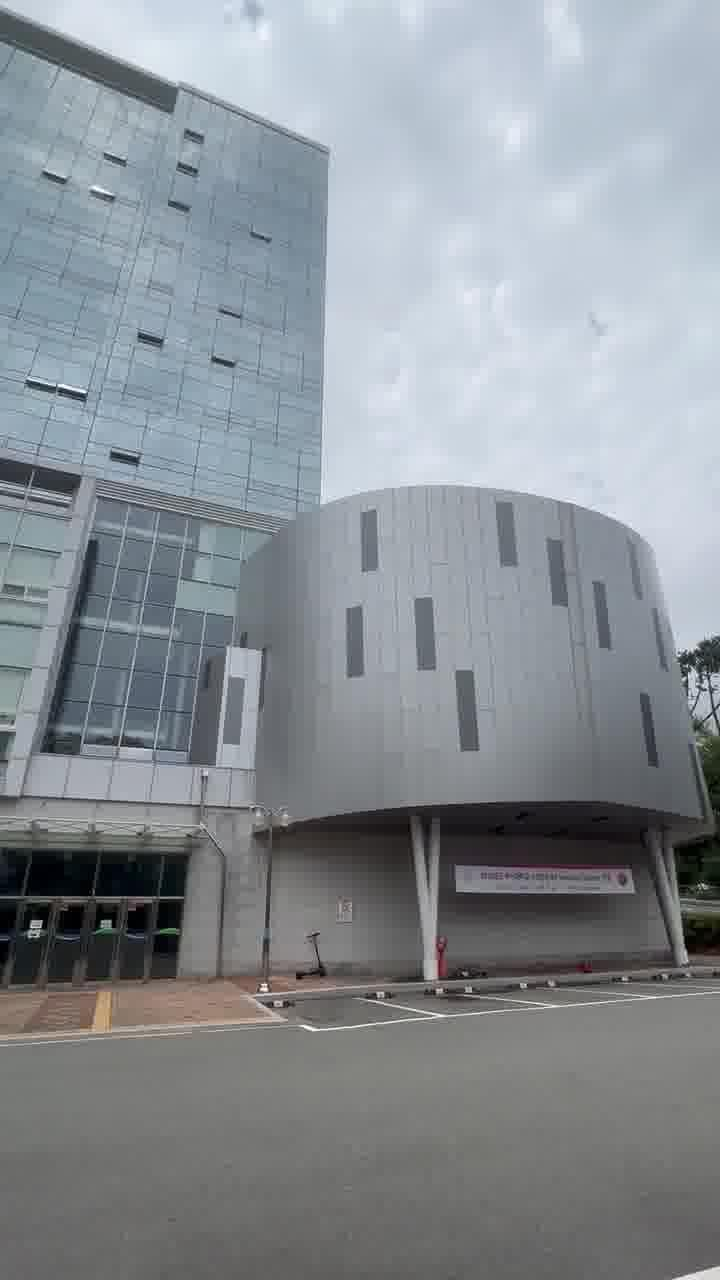building: (20, 46, 702, 962)
